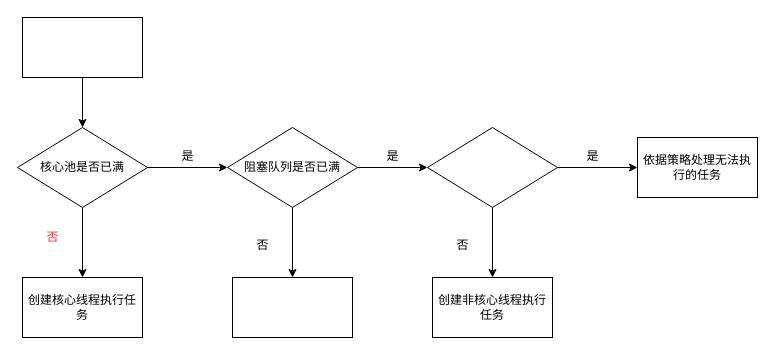
Some shapes in this 775 by 355 pixel diagram are drawn without their labels. The shapes that lost their labels are listed below. From the top down, each one's box as (x1, y1, x2, y2) in pixels, then its label:
(22, 16, 142, 78): 提交任务
(426, 126, 558, 208): 线程池是否已满
(232, 276, 352, 338): 添加任务到队列
